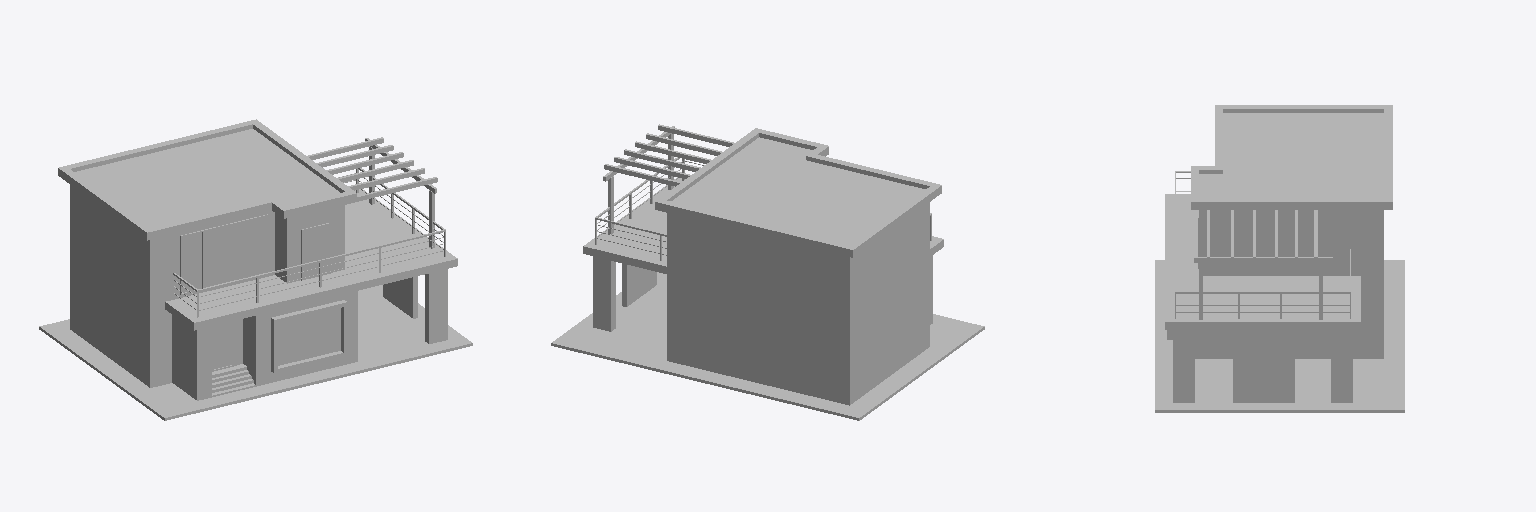
File: Building_House_01_color01.obj
3 renders of one model, left to right at view 1: azimuth 30°, elevation 25°; view 2: azimuth 150°, elevation 25°; view 3: azimuth 270°, elevation 25°, orthographic.
Visible parts, largest first — view 1: Building_House_01_color01; view 2: Building_House_01_color01; view 3: Building_House_01_color01.
Part boxes in pixels (x1,y1,x2,y2): Building_House_01_color01: (39, 119, 472, 420); Building_House_01_color01: (551, 124, 984, 420); Building_House_01_color01: (1155, 105, 1404, 412).
Size of the model in its own units: 704 by 356 by 496.